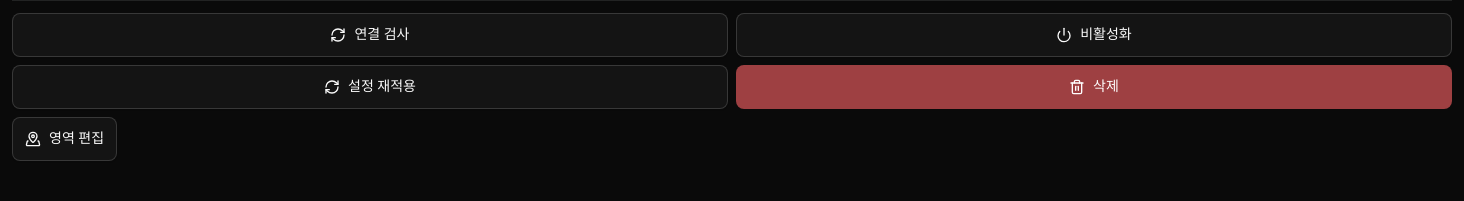
it: CameraActions › runs a structured camera connection test
What coordinates should you click on to do the following:
click the button "연결 검사"
I would click on:
 (370, 35)
Its box is left=12, top=13, right=728, bottom=57.
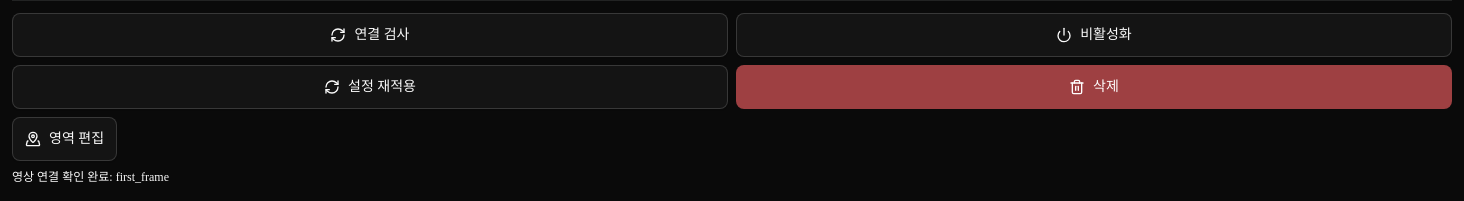
Expected: the text "영상 연결 확인 완료: first_frame" is shown, left=12, top=170, right=169, bottom=184
